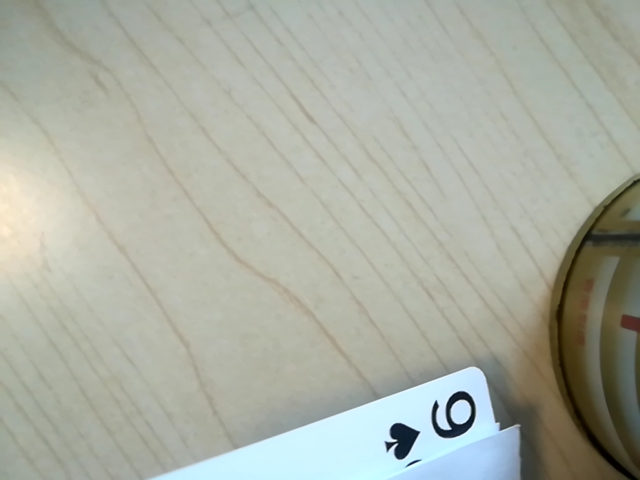ht 9: (388, 381, 497, 461)
